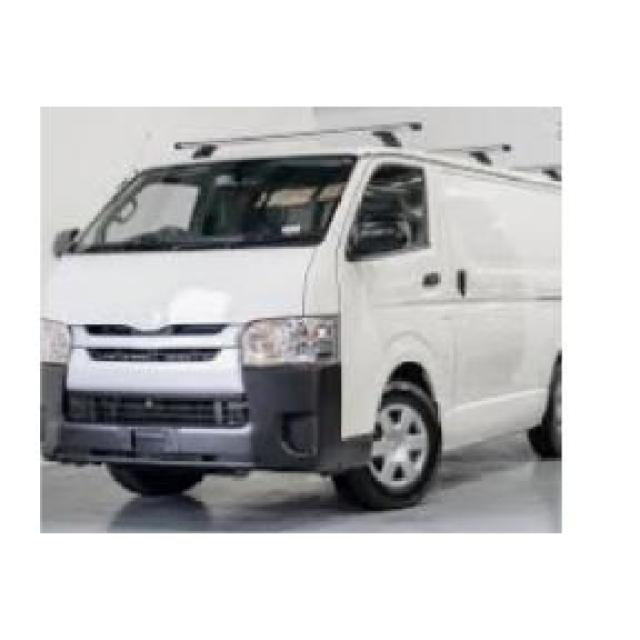Van: (43, 129, 560, 499)
